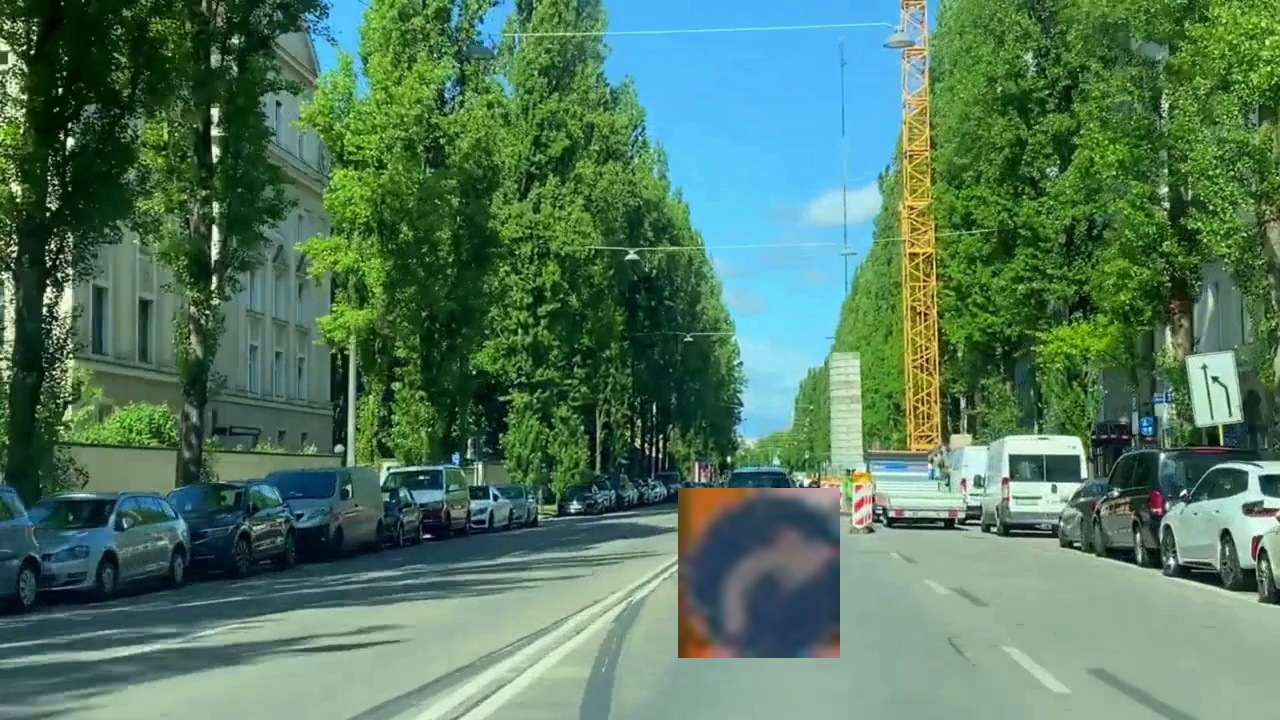Turn right: (678, 488, 840, 658)
